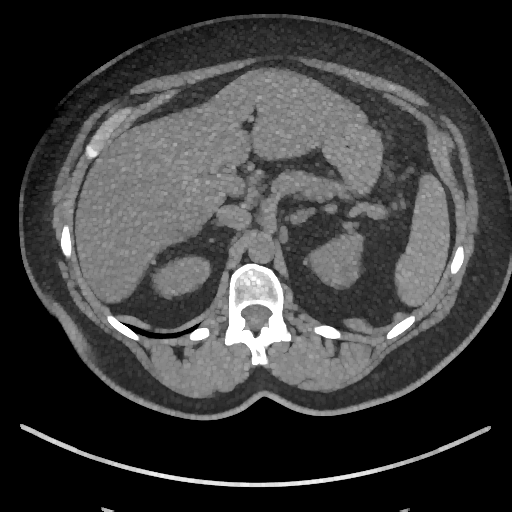Lesion: (343, 258, 363, 282)
